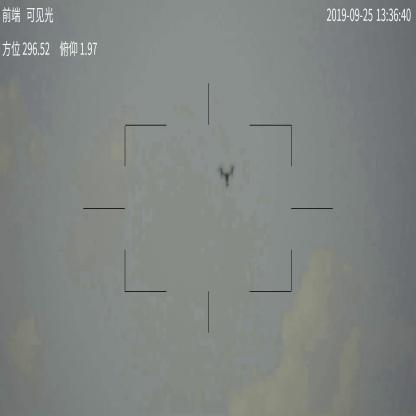uav: (219, 163, 235, 189)
